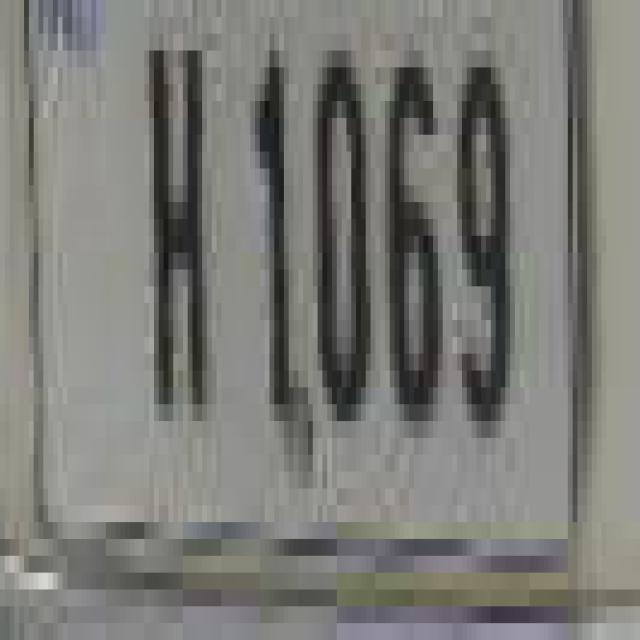license_plate: (9, 0, 640, 589)
